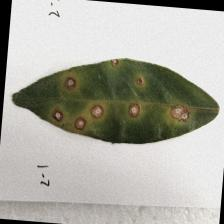canker: (43, 58, 193, 136)
